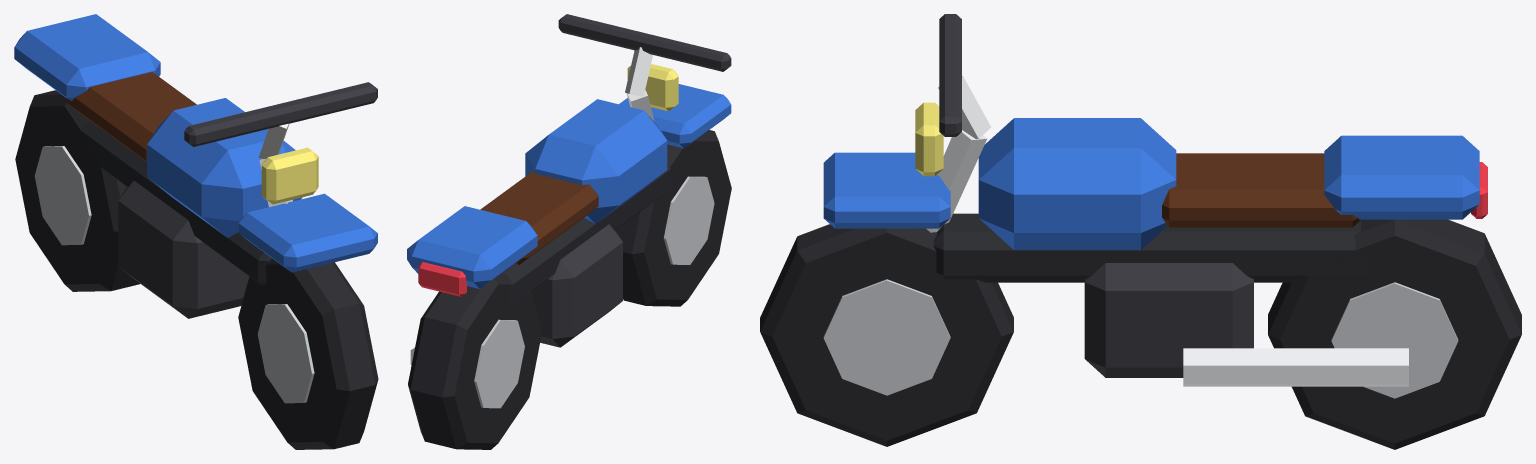
The model's file is BlueMotorcycle.fbx.
The picture shows the model from 3 angles, left to right: view 1: azimuth 30°, elevation 25°; view 2: azimuth 150°, elevation 25°; view 3: azimuth 270°, elevation 25°; orthographic projection. The views are drawn at different scales.
Parts seen in each view (by area): view 1: BlueMotorcycle, BlueMotorcycle_WheelF, BlueMotorcycle_WheelB; view 2: BlueMotorcycle, BlueMotorcycle_WheelB, BlueMotorcycle_WheelF; view 3: BlueMotorcycle, BlueMotorcycle_WheelF, BlueMotorcycle_WheelB.
Boxes of the visible parts, box(x1,y1,x2,y2) form: BlueMotorcycle: box(14, 14, 377, 318); BlueMotorcycle_WheelF: box(238, 258, 378, 449); BlueMotorcycle_WheelB: box(15, 90, 139, 291); BlueMotorcycle: box(407, 14, 731, 364); BlueMotorcycle_WheelB: box(408, 273, 542, 449); BlueMotorcycle_WheelF: box(615, 130, 731, 306); BlueMotorcycle: box(823, 14, 1487, 386); BlueMotorcycle_WheelF: box(760, 224, 1013, 446); BlueMotorcycle_WheelB: box(1268, 219, 1521, 449).
Size of the model in its own units: 1.8 by 2.93 by 5.4.
Materials: 1 (1 with a texture image).
